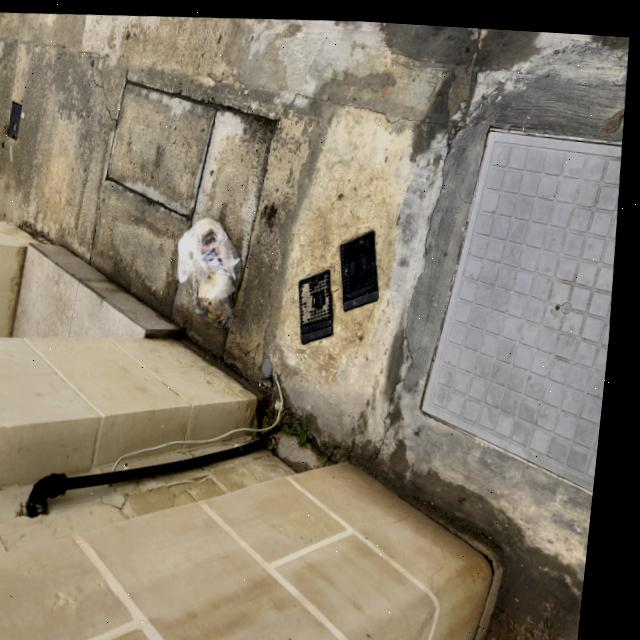Organic Waste -White Bag-: (168, 206, 261, 316)
